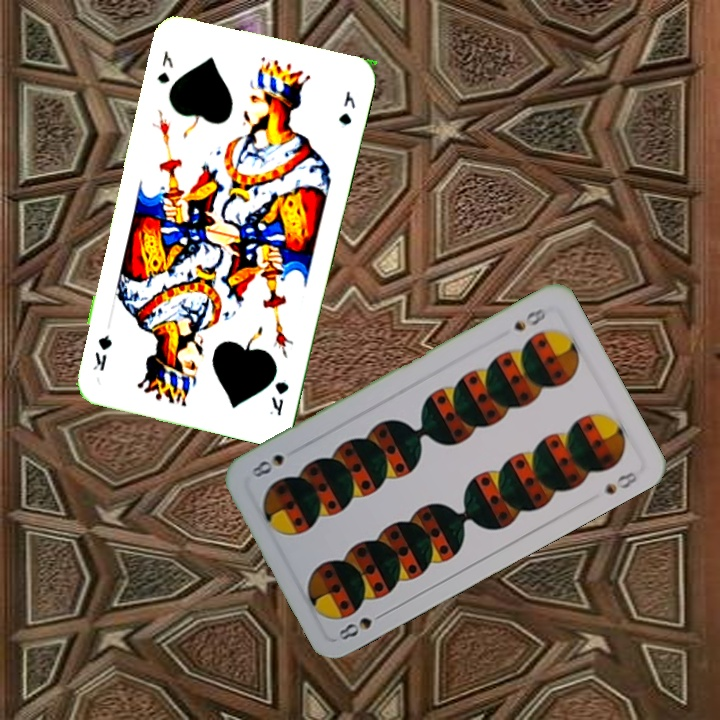GK: (265, 377, 291, 418), (153, 46, 176, 86)
S8: (334, 607, 389, 643), (509, 304, 549, 334)
